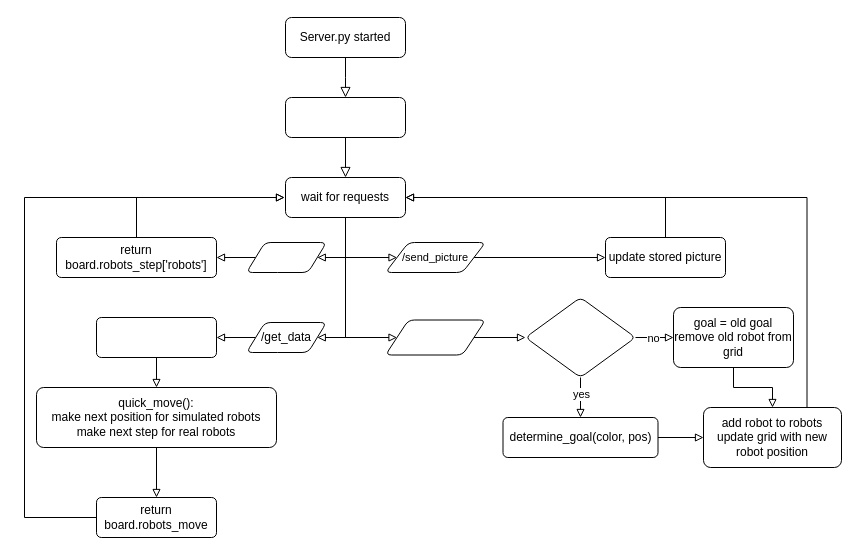
This 859x555 diagram has some shape labels left out. Here are the shapes that lost their labels. From the top down, the centre of each, then its label:
At (345,117): "Start flask server setup_routes()".
At (286,257): "/get_state".
At (156,337): "board.quick_move()".
At (435,337): "/send_data".
At (580,337): "is the robot new?".
